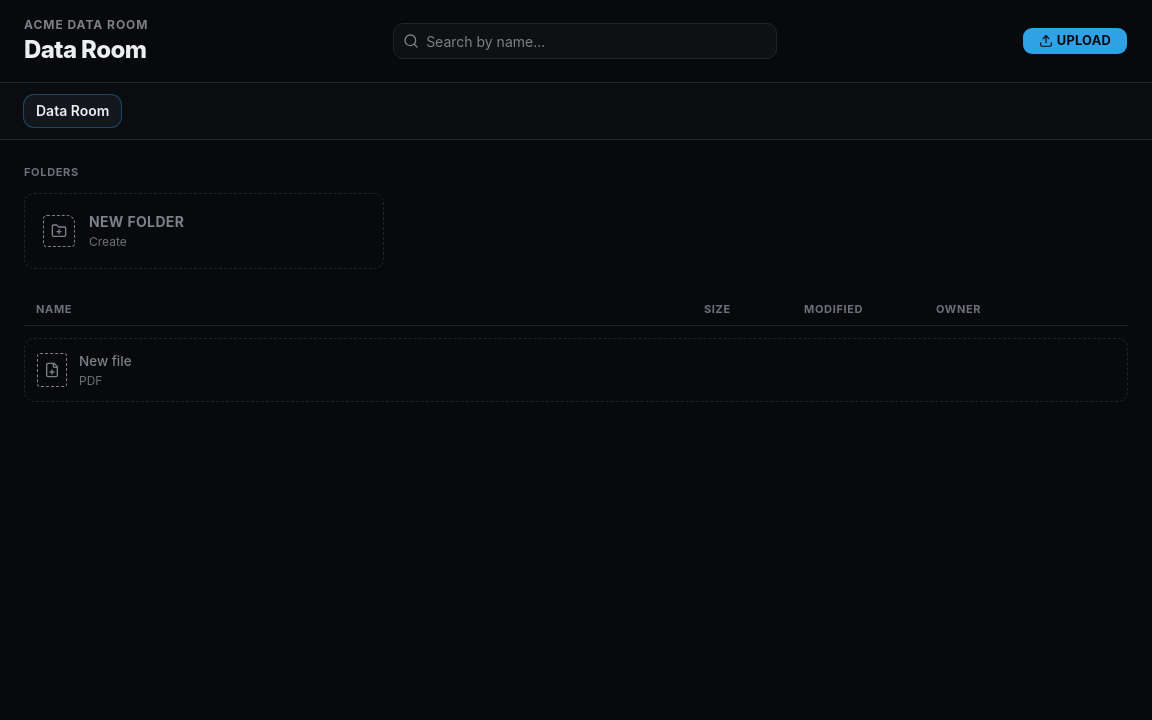
Test: DataRoomPage › hides upload while searching
Expected: the button "New folder Create" is shown, [24,192,384,268]
Expected: the button "Upload" is shown, [1022,27,1128,55]
Type "anything" into the field with placeholder "Search by name...".
click(585, 41); type("anything")  # box [393,23,777,59]
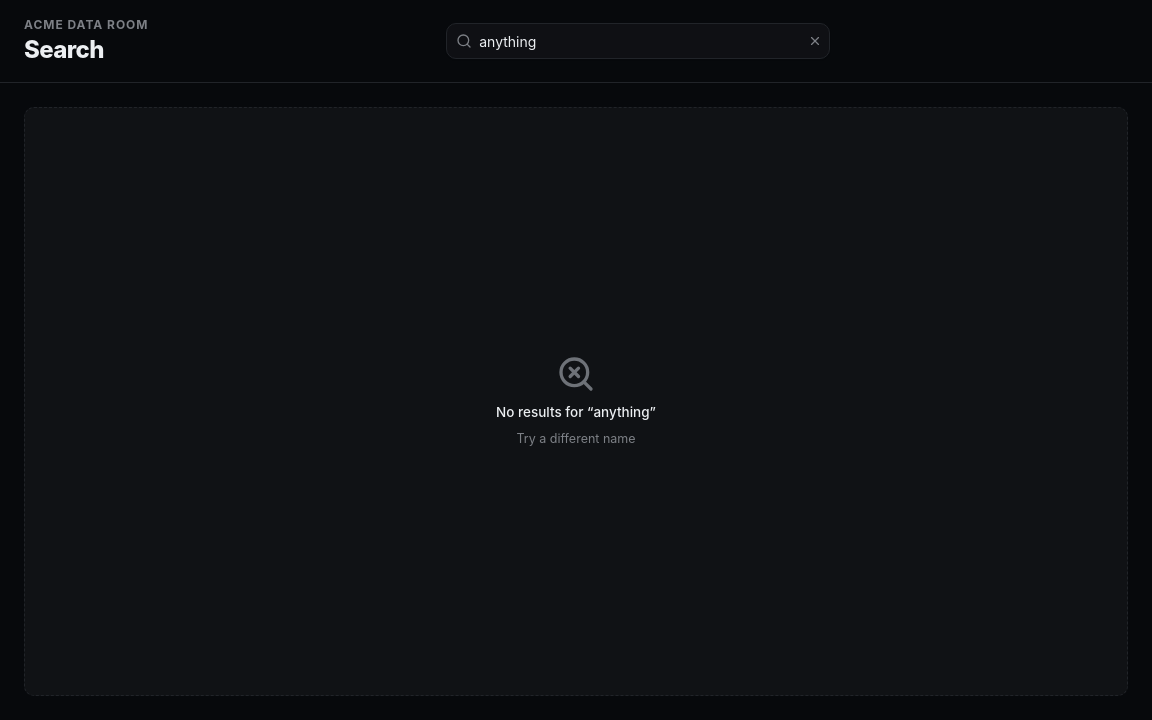
Now the button "Upload" is gone
